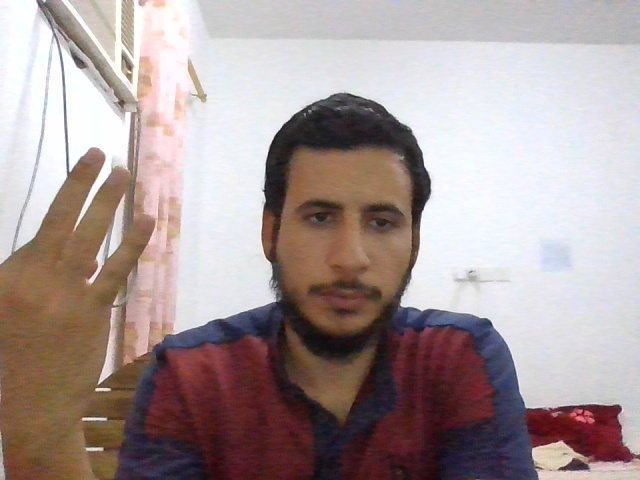Three: (2, 147, 156, 422)
